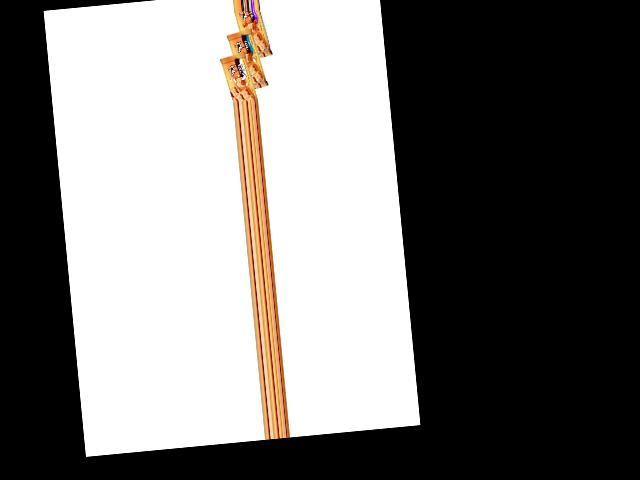chocolate: (233, 8, 270, 64)
